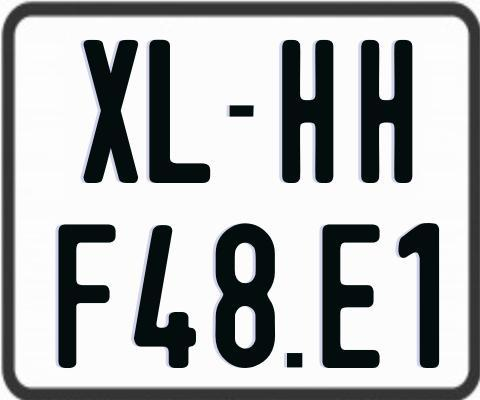1: (397, 222, 443, 368)
4: (134, 222, 198, 369)
8: (215, 220, 280, 371)
E: (321, 222, 379, 370)
F: (58, 223, 122, 369)
H: (359, 37, 413, 183), (281, 38, 333, 182)
L: (148, 37, 209, 184)
X: (80, 38, 141, 183)
